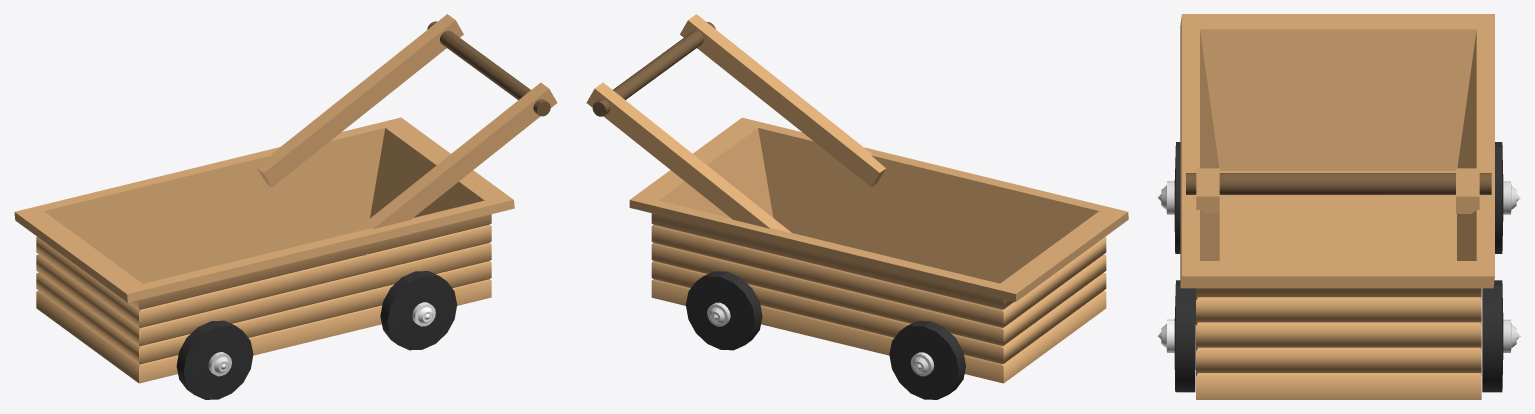
Rendered from Kariton (1).fbx.
3 renders of one model, left to right at view 1: azimuth 30°, elevation 25°; view 2: azimuth 150°, elevation 25°; view 3: azimuth 270°, elevation 25°, orthographic. The views are drawn at different scales.
Visible parts, largest first — view 1: Kariton; view 2: Kariton; view 3: Kariton.
Part boxes in pixels (left/top/right/bottom): Kariton: left=14, top=14, right=557, bottom=399; Kariton: left=586, top=14, right=1128, bottom=399; Kariton: left=1157, top=14, right=1520, bottom=399.
Size of the model in its own units: 1250 by 611 by 649.
